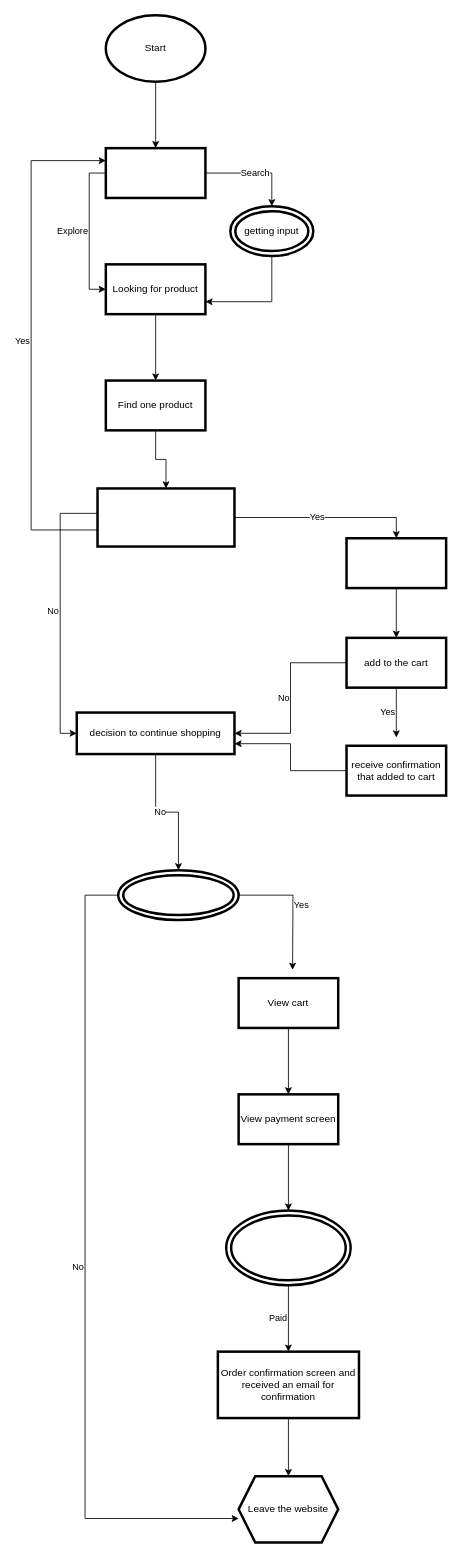
Some shapes in this 461 by 1558 pixel diagram are drawn without their labels. Each missing label, with the box of its shape:
decided to check out: (117, 869, 239, 921)
Get into the webpage: (345, 537, 447, 589)
Input payment information: (225, 1209, 352, 1286)
User enter website: (104, 146, 206, 199)
View specific for the product: (96, 487, 235, 547)
